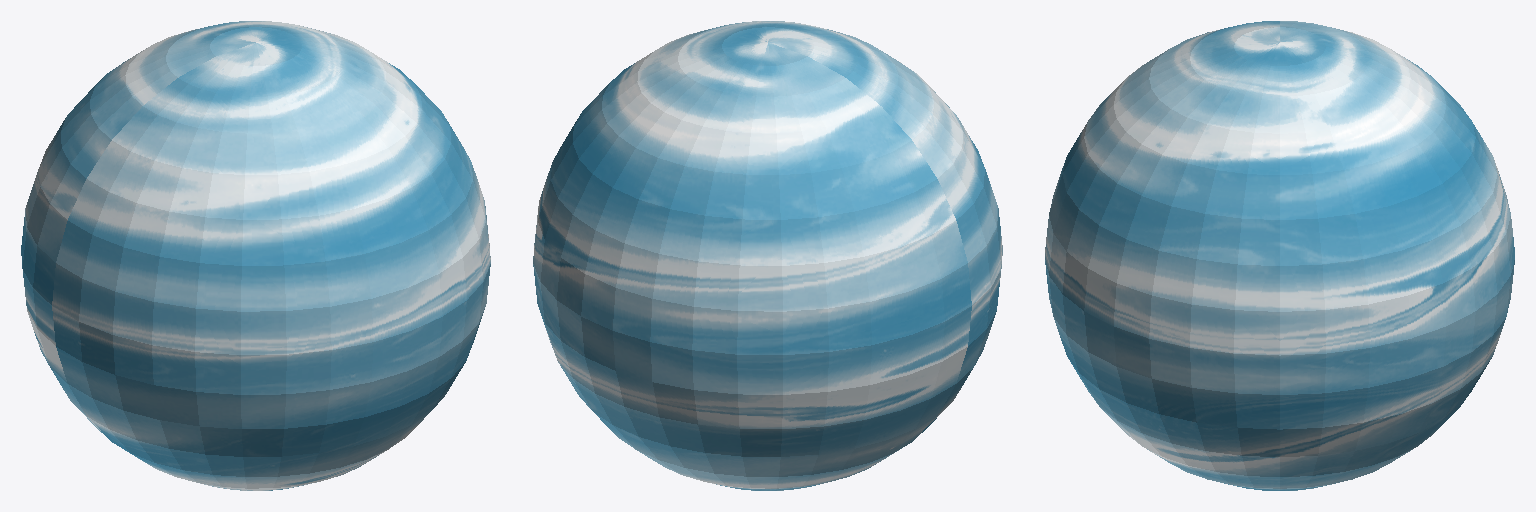
The picture shows the model from 3 angles: view 1: azimuth 30°, elevation 25°; view 2: azimuth 150°, elevation 25°; view 3: azimuth 270°, elevation 25°; orthographic projection.
Visible parts, largest first — view 1: Sphere29; view 2: Sphere29; view 3: Sphere29.
Part boxes in pixels (x1,y1,x2,y2): Sphere29: (21,21,490,490); Sphere29: (533,21,1002,490); Sphere29: (1045,21,1514,490).
Bounding box in the file's own units: 2 × 2 × 2.
Materials: 1 (1 with a texture image).